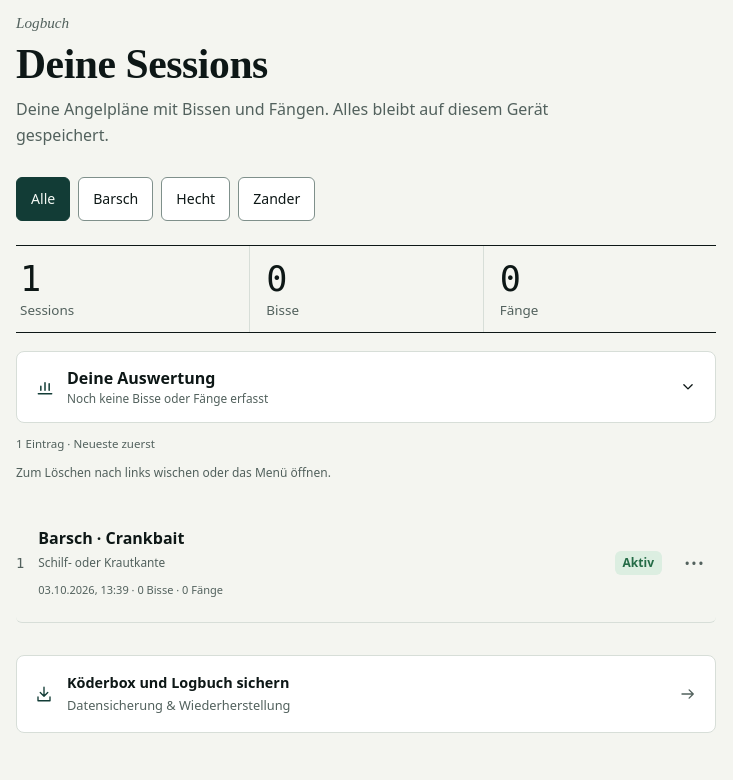
Scenario: Session-Nutzerablauf › unterscheidet Scrollen, kurze Gesten und Linkswischen; Wischen löscht noch nichts
The image size is (733, 780).
Press the mouse on the element with class "session-swipe-content" at point(20, 563), box [16,512,716,614]
Check: the text "Endgültig löschen" is not shown
Press the mouse on the element with class "session-swipe-content" at point(20, 563), box [16,512,716,614]
Check: the text "Endgültig löschen" is not shown
Press the mouse on the element with class "session-swipe-content" at point(20, 563), box [16,512,716,614]
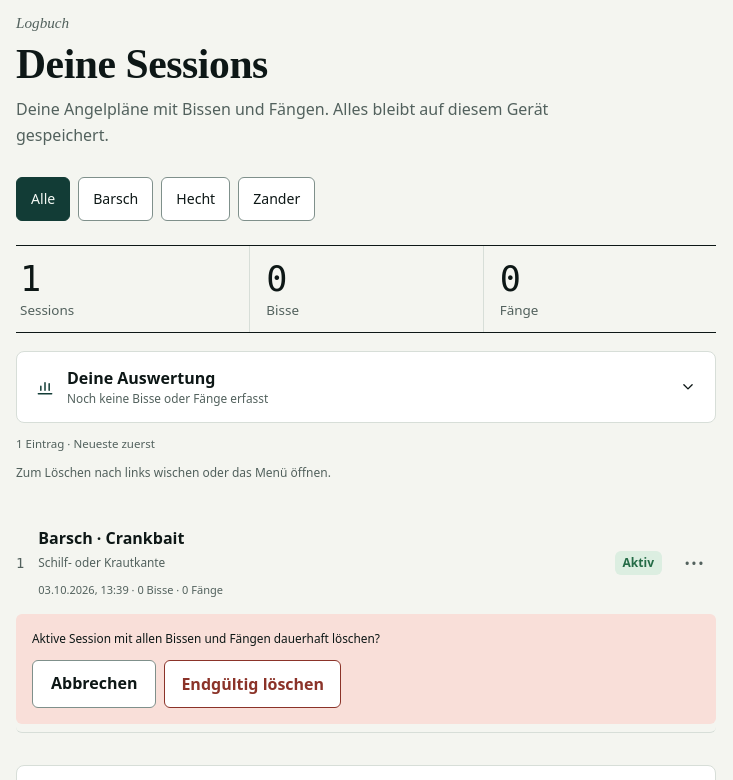
Check: the button "Endgültig löschen" is shown, box [164,660,341,708]
